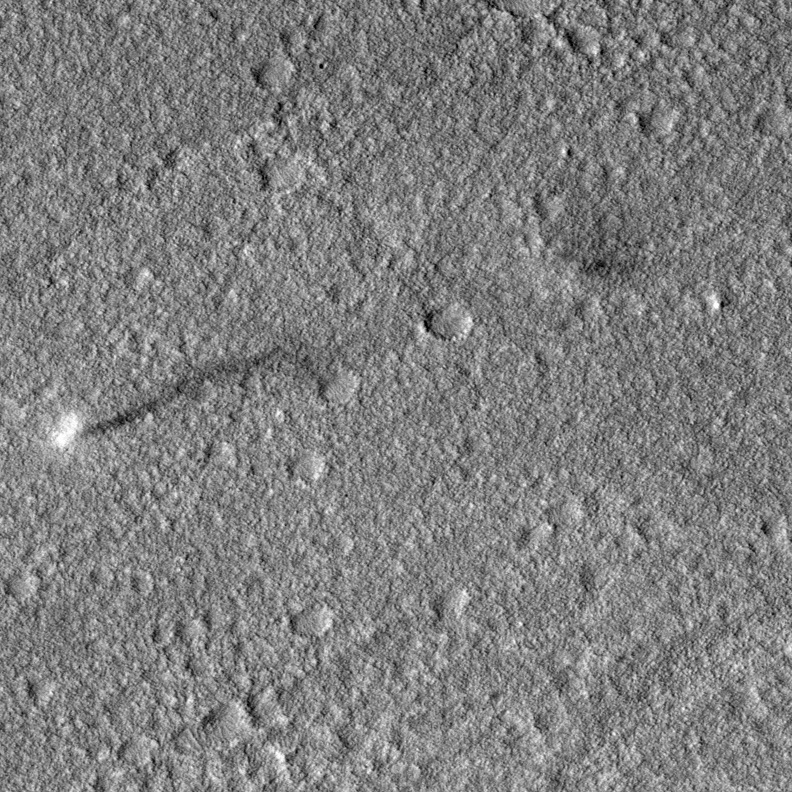dust_devil: (43, 334, 310, 456)
